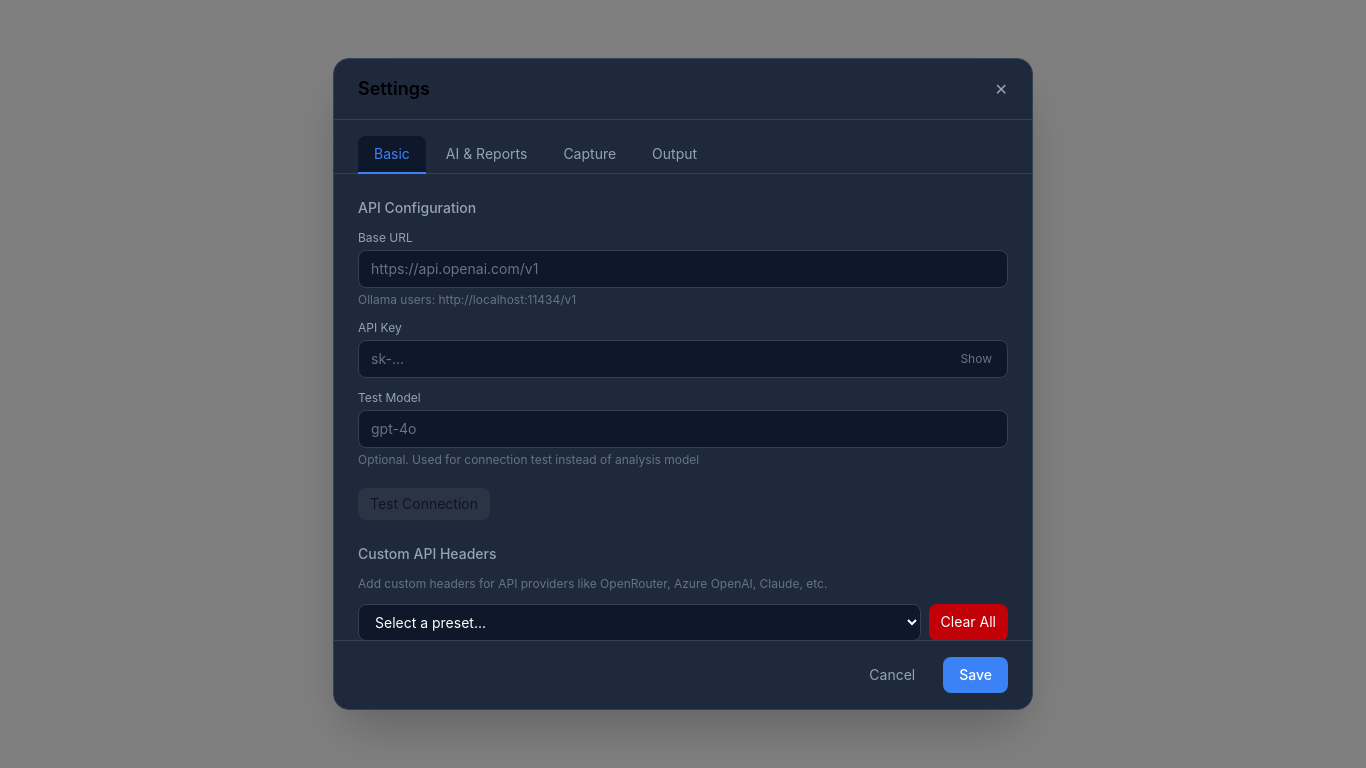
Test: SettingsModal.vue - saveSettings › 保存失败时显示"✗ 保存失败"
Click the button "Save" at (976,675), box left=943, top=657, right=1008, bottom=693
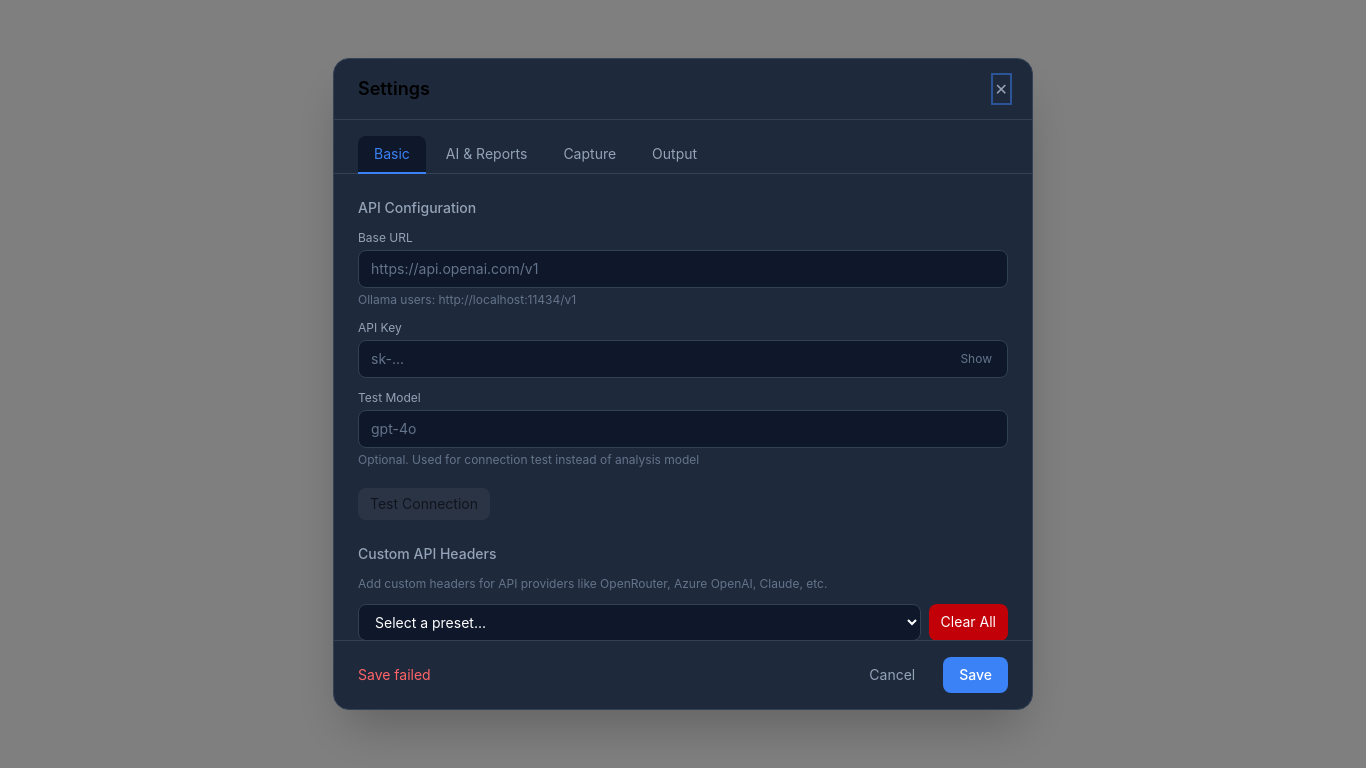
Result: the text "Save failed" is shown at left=358, top=666, right=431, bottom=683
